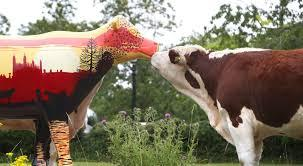cow: (150, 44, 303, 166)
